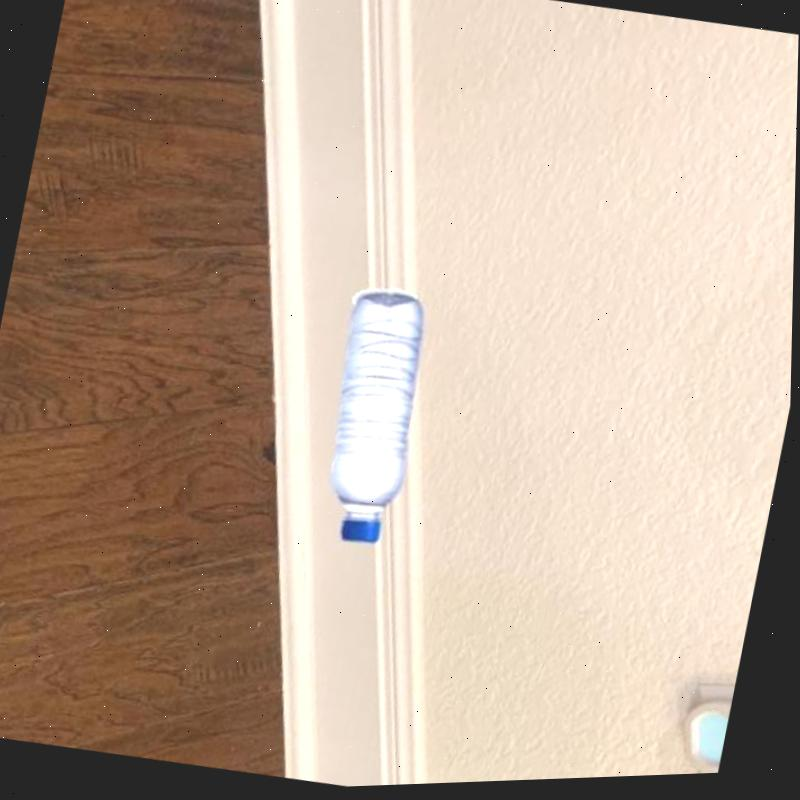botella: (309, 288, 440, 554)
